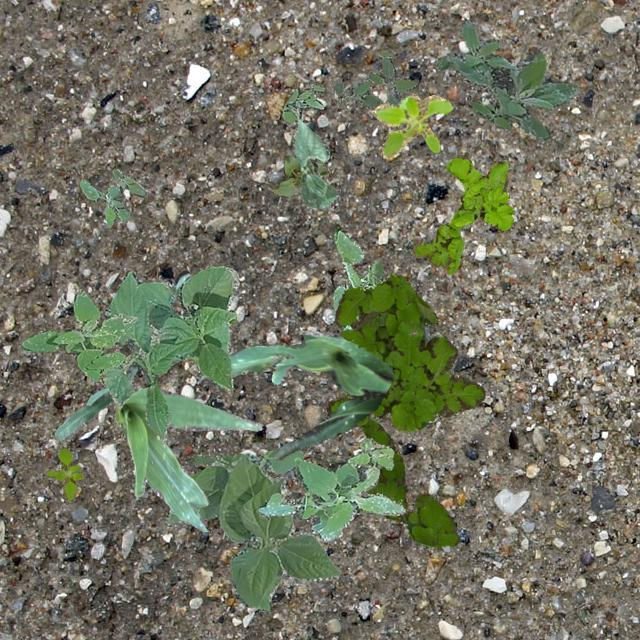crop: (54, 270, 260, 530), (164, 450, 340, 610), (195, 326, 394, 458), (102, 266, 238, 438), (292, 118, 340, 210), (270, 154, 328, 196)
weed: (326, 273, 484, 432), (432, 19, 578, 140), (258, 438, 404, 540), (359, 416, 458, 546), (410, 156, 512, 274), (20, 288, 136, 380), (332, 230, 387, 330), (332, 50, 418, 109), (371, 94, 452, 156), (78, 168, 146, 226), (46, 446, 82, 499), (280, 82, 324, 124)
